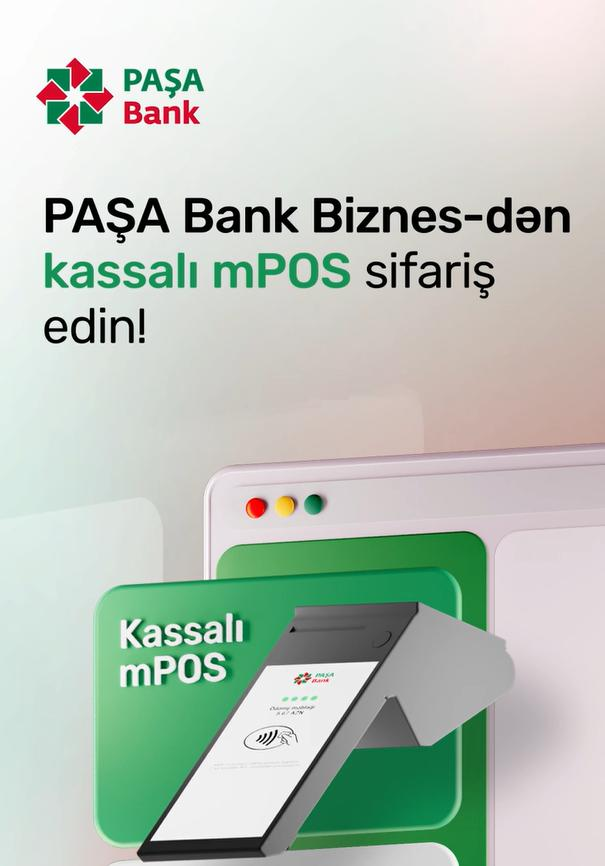Pasha Bank: (34, 57, 115, 136)
